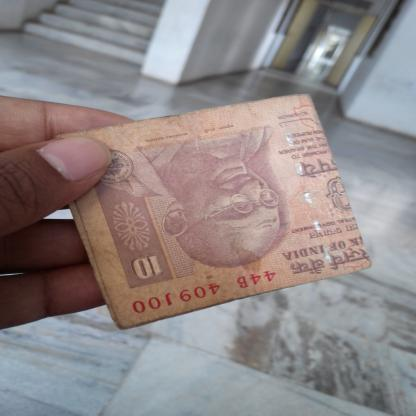Old10Front: (50, 94, 373, 330)
